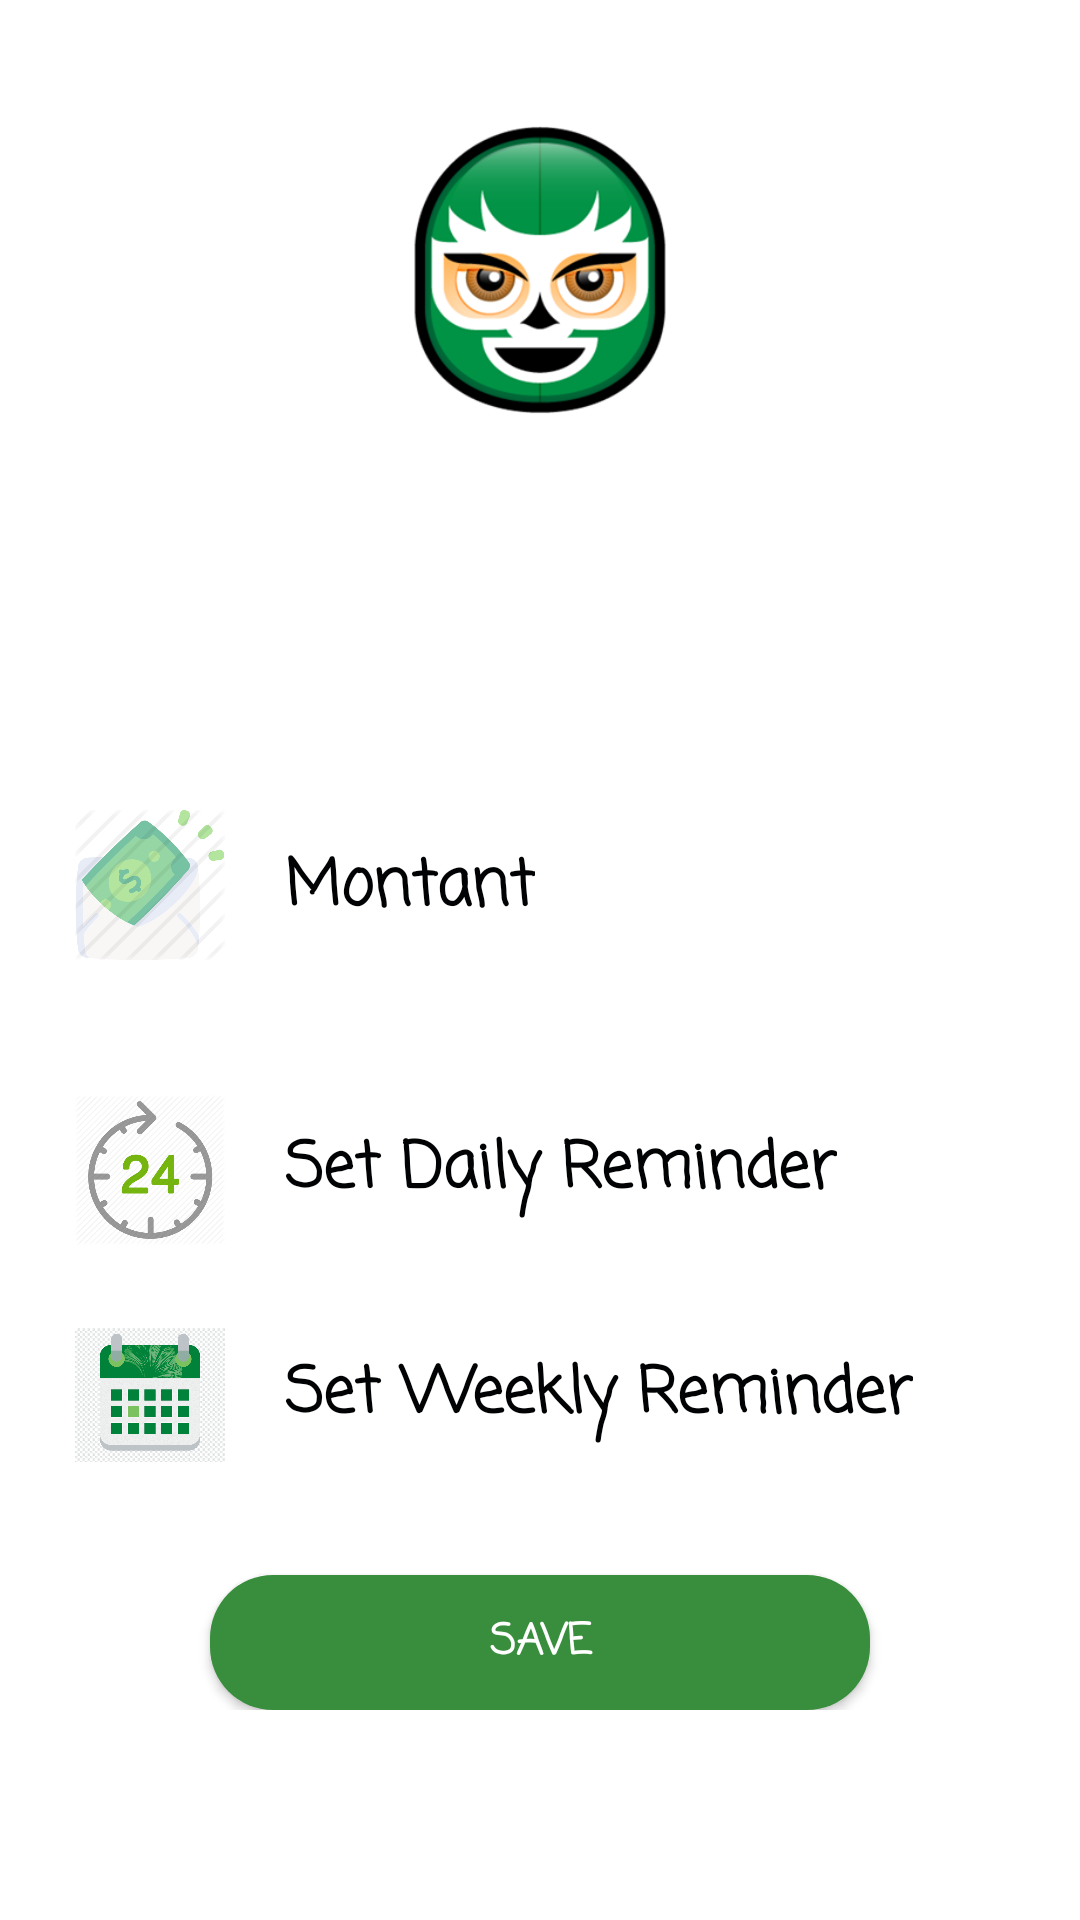

Icons on this 1080x1920 Android screen, each with its box as (left=x1, top=y1, right=x2, bottom=y2):
date: (left=75, top=1328, right=225, bottom=1462)
user: (left=414, top=127, right=666, bottom=413)
